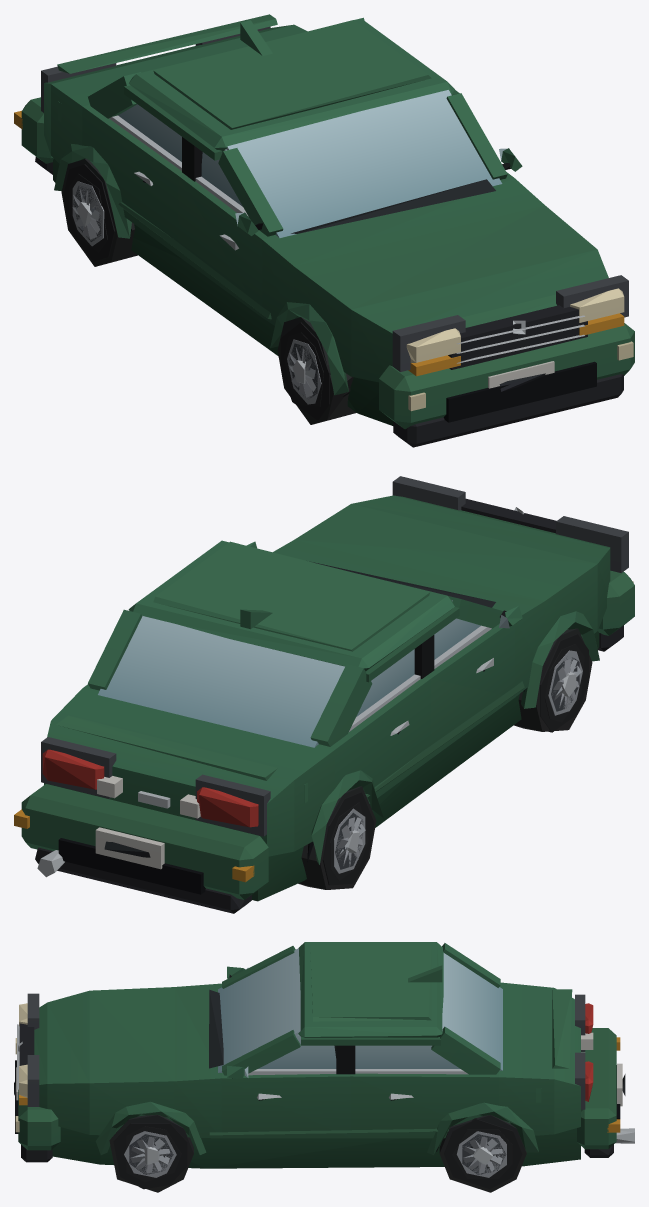
File: hf-city-car.glb
3 views of the same model, one above another, from view 1: azimuth 30°, elevation 25°; view 2: azimuth 150°, elevation 25°; view 3: azimuth 270°, elevation 25° (orthographic). The views are drawn at different scales.
Visible parts, largest first — view 1: car_sedan_01; view 2: car_sedan_01; view 3: car_sedan_01.
Boxes of the visible parts, bbox=[...] form: car_sedan_01: bbox=[14, 14, 634, 447]; car_sedan_01: bbox=[14, 476, 634, 913]; car_sedan_01: bbox=[14, 942, 634, 1192].
Size of the model in its own units: 1.2 by 0.9621 by 3.06.
